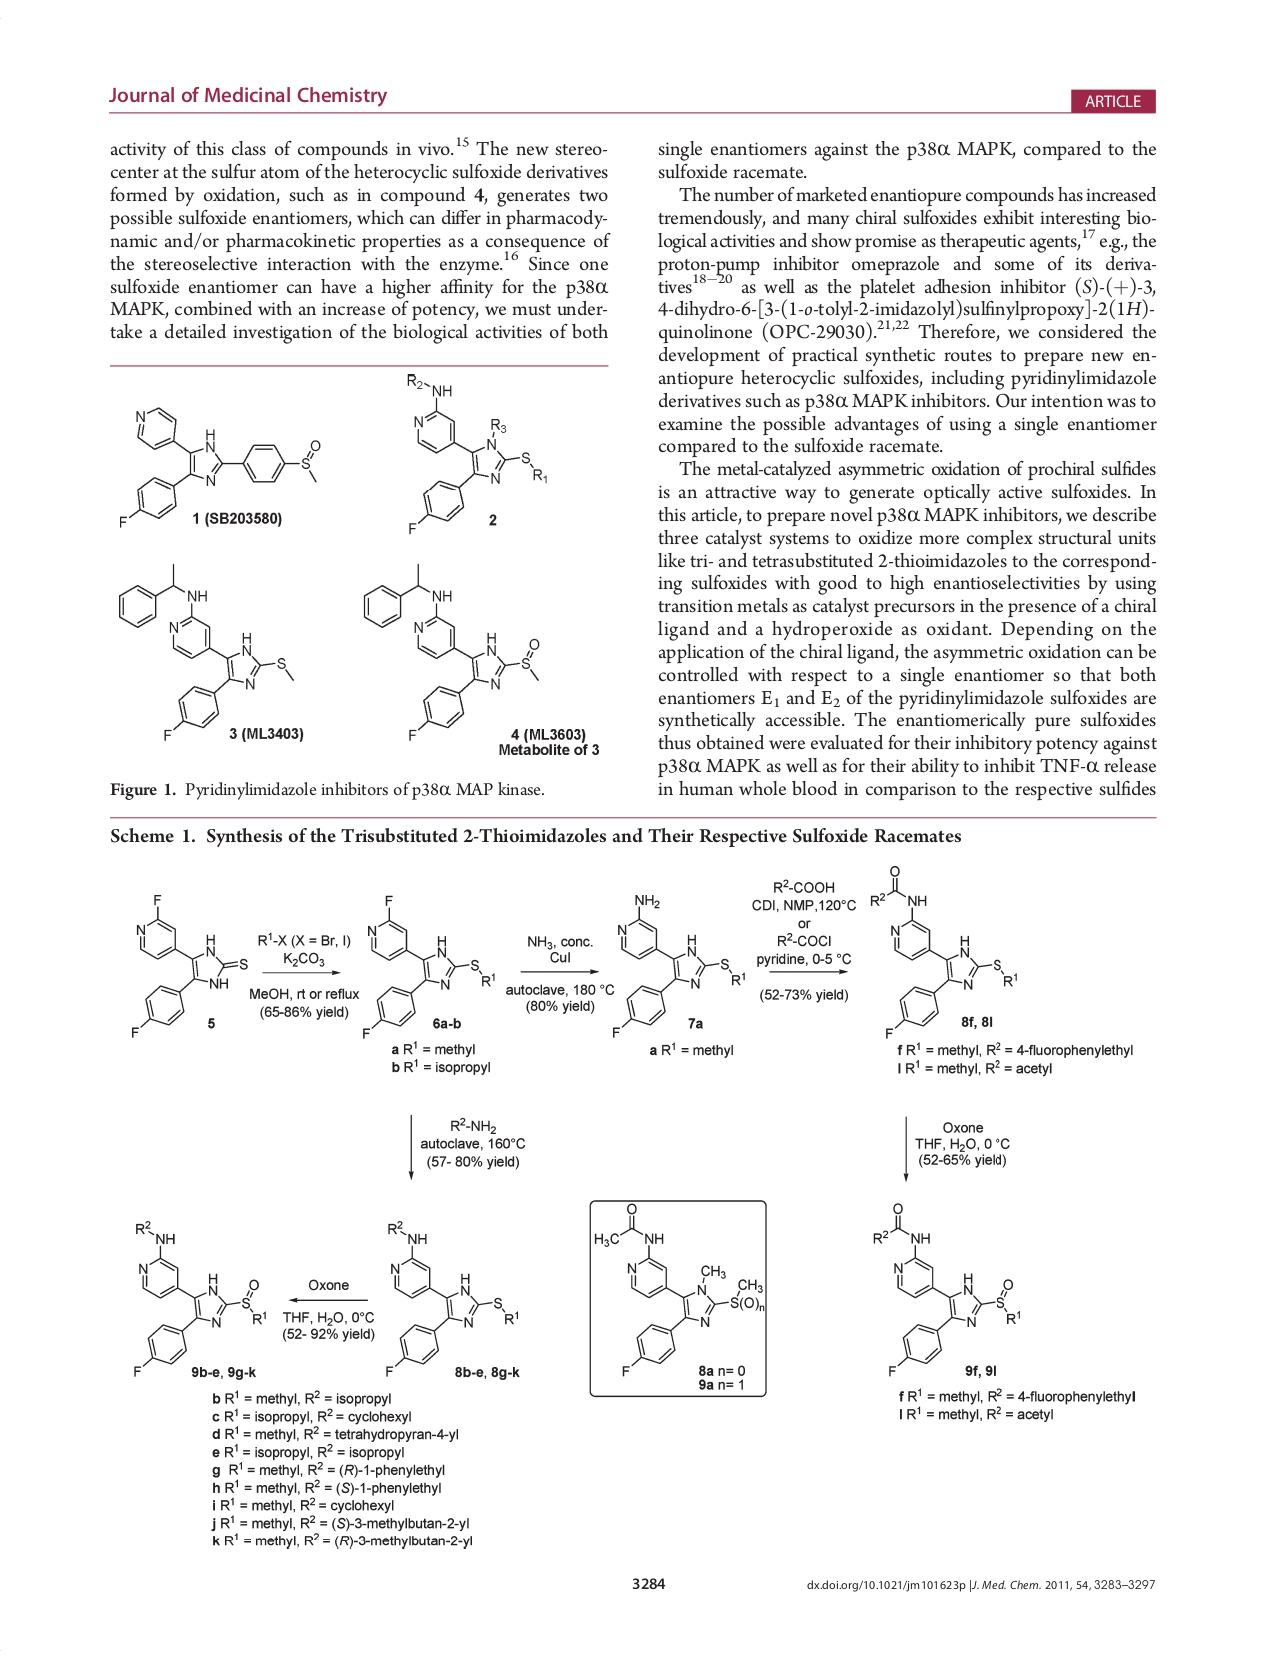exist_molecular: (360, 559, 543, 742), (114, 561, 297, 741), (590, 1201, 767, 1376), (866, 862, 1020, 1043), (108, 402, 322, 531), (870, 1200, 1025, 1376), (400, 371, 549, 537), (122, 1217, 269, 1378), (378, 1216, 520, 1376), (359, 888, 499, 1043), (608, 892, 747, 1040), (125, 892, 250, 1039)
